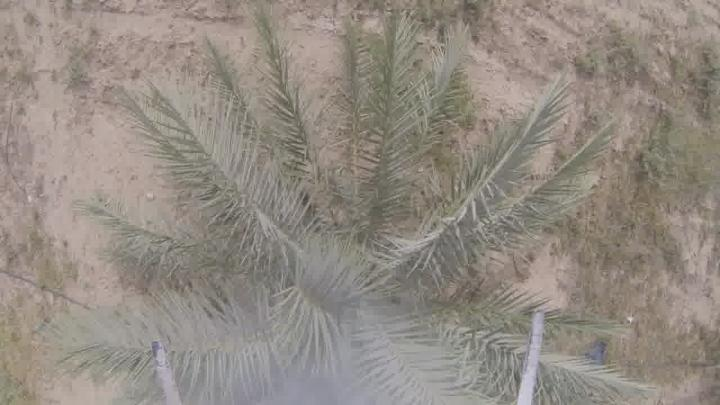Date-Palm-Crown: (207, 171, 485, 405)
